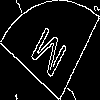M: (25, 25, 69, 88)
